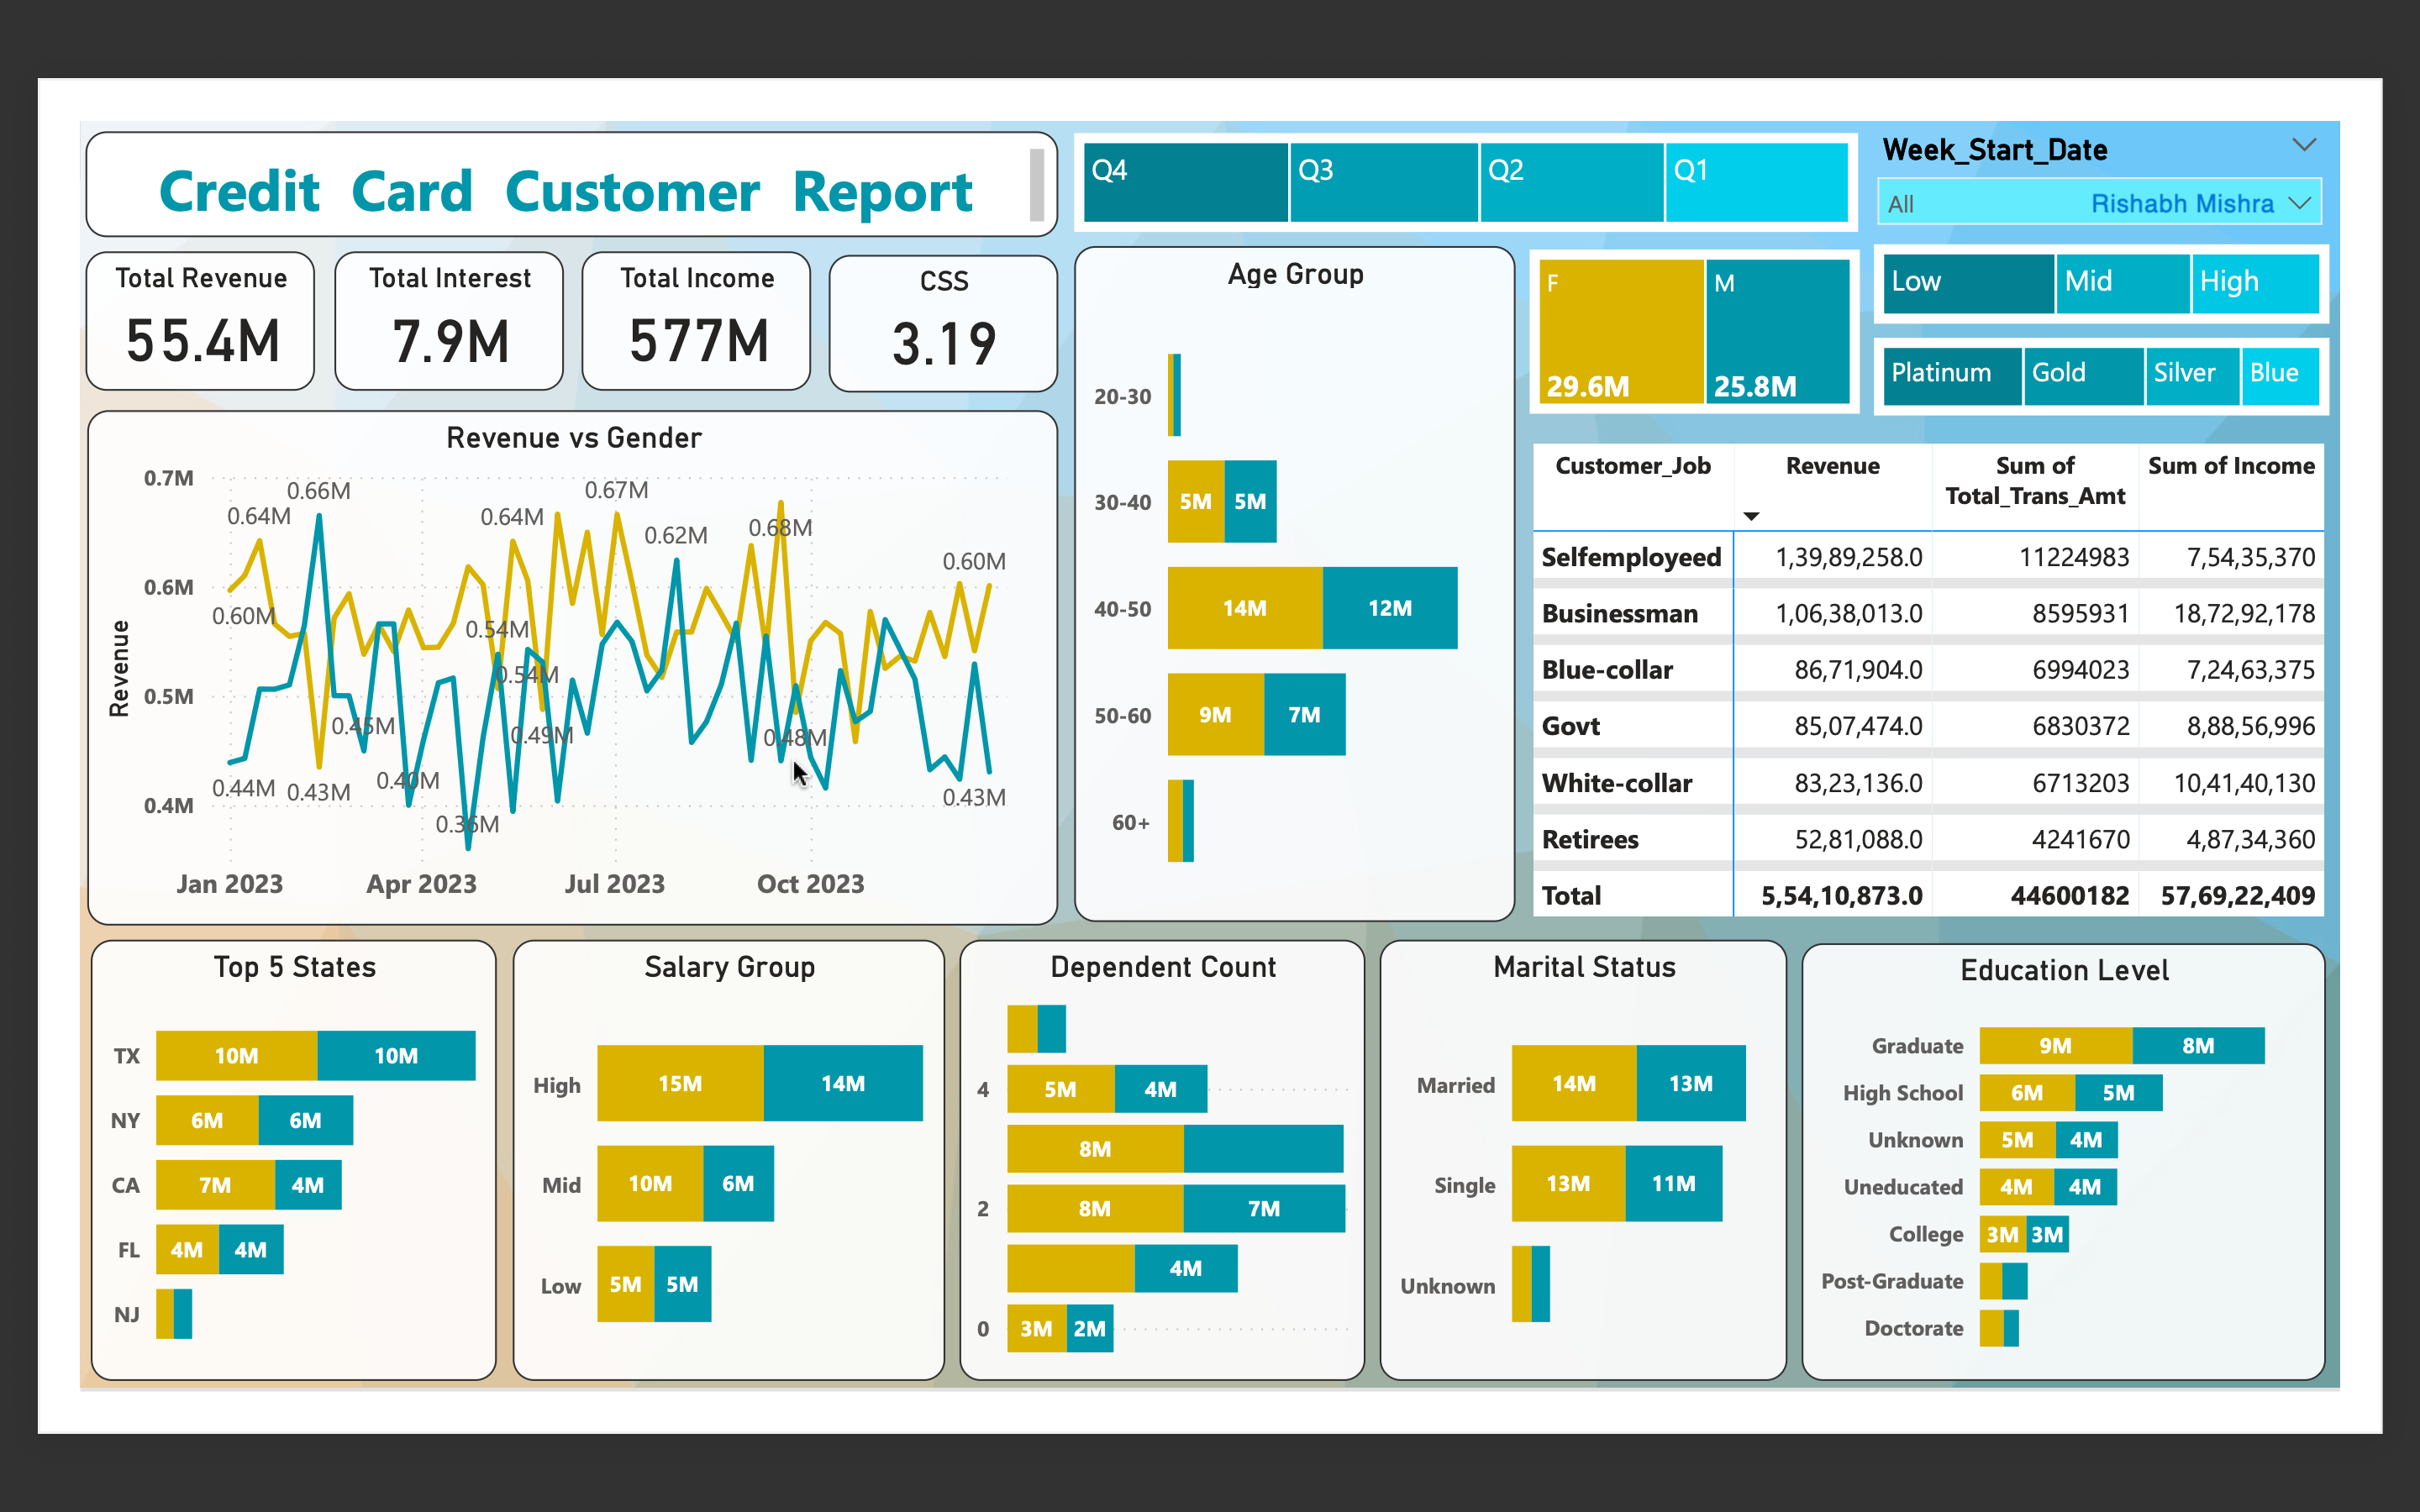

The dashboard page shown, as its layout file describes it:
{"tool":"powerbi","page":{"name":"CC Customer","canvas":[1280,720],"ordinal":2},"visuals":[{"type":"textbox","box":[10.4,15.7,529.8,64.8],"z":0},{"type":"barChart","title":"Revenue by Income Group","fields":{"Y":["Sum(public cc_detail.Revenue)"],"Category":["public cust_detail.IncomeGroup"],"Series":["public cust_detail.gender"]},"box":[793.1,471.2,221.5,236.1],"z":1000},{"type":"tableEx","fields":{"Values":["public cust_detail.customer_job","Sum(public cc_detail.Revenue)","Sum(public cc_detail.interest_earned)","Sum(public cust_detail.income)"]},"box":[793.1,228.8,479.6,226.7],"z":2000},{"type":"card","title":"Revenue","fields":{"Values":["Sum(public cc_detail.Revenue)"]},"box":[10.4,96.1,123.3,78.4],"z":3000},{"type":"card","title":"Income","fields":{"Values":["Sum(public cust_detail.income)"]},"box":[275.9,96.1,123.3,78.4],"z":4000},{"type":"card","title":"Total Interest","fields":{"Values":["Sum(public cc_detail.interest_earned)"]},"box":[145.2,96.1,123.3,78.4],"z":5000},{"type":"card","title":"CSS","fields":{"Values":["Avg(public cust_detail.cust_satisfaction_score)"]},"box":[416.9,96.1,123.3,78.4],"z":6000},{"type":"slicer","fields":{"Values":["public cc_detail.week_start_date"]},"box":[934.1,15.7,340.6,58.5],"z":7000},{"type":"treemap","fields":{"Group":["public cc_detail.qtr"],"Values":["Avg(public cc_detail.client_num)"]},"box":[550.7,15.7,370.9,42.8],"z":8000},{"type":"treemap","fields":{"Values":["Avg(public cc_detail.client_num)"],"Group":["public cc_detail.use_chip"]},"box":[932,96.1,340.6,47],"z":9000},{"type":"treemap","fields":{"Values":["Avg(public cc_detail.client_num)"],"Group":["public cc_detail.card_category"]},"box":[928.9,153.6,345.9,58.5],"z":10000},{"type":"treemap","fields":{"Group":["public cust_detail.gender"],"Values":["Sum(public cc_detail.Revenue)"]},"box":[793.1,96.1,128.5,116],"z":13000},{"type":"lineChart","title":"Revenue by Week","fields":{"Y":["Sum(public cc_detail.Revenue)"],"Series":["public cust_detail.gender"],"Category":["public cc_detail.week_start_date.Variation.Date Hierarchy.Year","public cc_detail.week_start_date.Variation.Date Hierarchy.Month","public cc_detail.week_start_date.Variation.Date Hierarchy.Day"]},"box":[10.4,182.9,529.8,272.7],"z":13001},{"type":"barChart","title":"Revenue by Age Group","fields":{"Y":["Sum(public cc_detail.Revenue)"],"Category":["public cust_detail.AgeGroup"],"Series":["public cust_detail.gender"]},"box":[550.7,96.1,234.1,359.4],"z":13002},{"type":"barChart","title":"Revenue by Dependent","fields":{"Y":["Sum(public cc_detail.Revenue)"],"Category":["public cust_detail.dependent_count"],"Series":["public cust_detail.gender"]},"box":[528.7,471.2,222.6,236.1],"z":13003},{"type":"barChart","title":"Revenue by Education","fields":{"Y":["Sum(public cc_detail.Revenue)"],"Category":["public cust_detail.education_level"],"Series":["public cust_detail.gender"]},"box":[1051.2,471.2,221.5,236.1],"z":13004},{"type":"barChart","title":"Top 5 States","fields":{"Y":["Sum(public cc_detail.Revenue)"],"Category":["public cust_detail.state_cd"],"Series":["public cust_detail.gender"]},"box":[10.4,471.2,221.5,236.1],"z":13005},{"type":"barChart","title":"Revenue by Marital Status","fields":{"Y":["Sum(public cc_detail.Revenue)"],"Category":["public cust_detail.marital_status"],"Series":["public cust_detail.gender"]},"box":[268.5,471.2,221.5,236.1],"z":13006}]}

Visuals, with their boxes on the page's 1280x720 design canvas (x1, y1, x2, y2). These are canvas units, not pixel positions in the 2420x1512 screenshot, which may show the page scaled, cropped or inside an application window:
textbox: (10, 16, 540, 80)
"Revenue by Income Group" barChart: (793, 471, 1015, 707)
tableEx - public cust_detail.customer_job x Sum(public cc_detail.Revenue): (793, 229, 1273, 456)
"Revenue" card: (10, 96, 134, 174)
"Income" card: (276, 96, 399, 174)
"Total Interest" card: (145, 96, 268, 174)
"CSS" card: (417, 96, 540, 174)
slicer - public cc_detail.week_start_date: (934, 16, 1275, 74)
treemap - public cc_detail.qtr x Avg(public cc_detail.client_num): (551, 16, 922, 58)
treemap - Avg(public cc_detail.client_num) x public cc_detail.use_chip: (932, 96, 1273, 143)
treemap - Avg(public cc_detail.client_num) x public cc_detail.card_category: (929, 154, 1275, 212)
treemap - public cust_detail.gender x Sum(public cc_detail.Revenue): (793, 96, 922, 212)
"Revenue by Week" lineChart: (10, 183, 540, 456)
"Revenue by Age Group" barChart: (551, 96, 785, 456)
"Revenue by Dependent" barChart: (529, 471, 751, 707)
"Revenue by Education" barChart: (1051, 471, 1273, 707)
"Top 5 States" barChart: (10, 471, 232, 707)
"Revenue by Marital Status" barChart: (268, 471, 490, 707)
